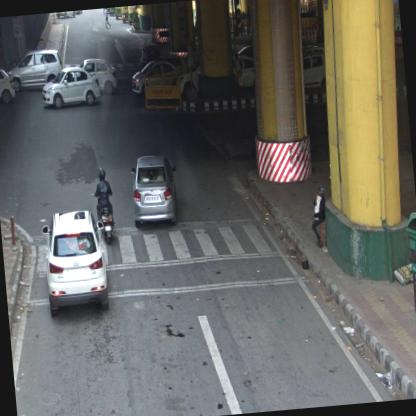car: (38, 209, 112, 318), (128, 151, 182, 229), (40, 64, 102, 110), (8, 50, 66, 94), (130, 60, 182, 97), (80, 55, 118, 97), (0, 64, 15, 105), (56, 10, 76, 22), (71, 10, 82, 18)
motorcycle: (92, 166, 118, 248)
